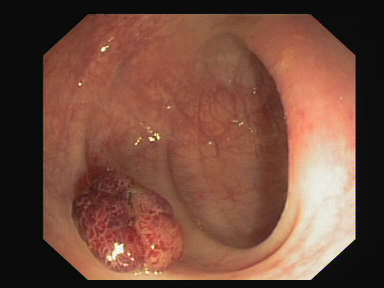polyp: (62, 151, 200, 270)
